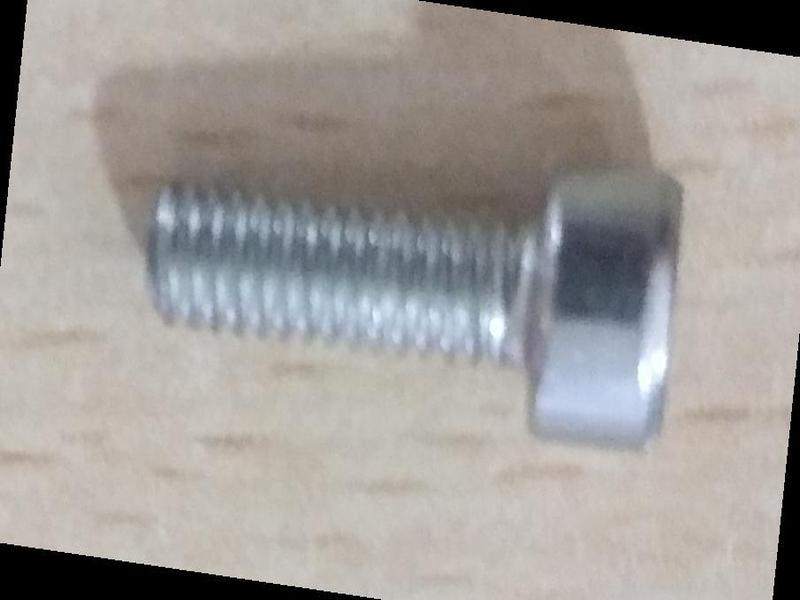smallscrew: (128, 99, 706, 470)
